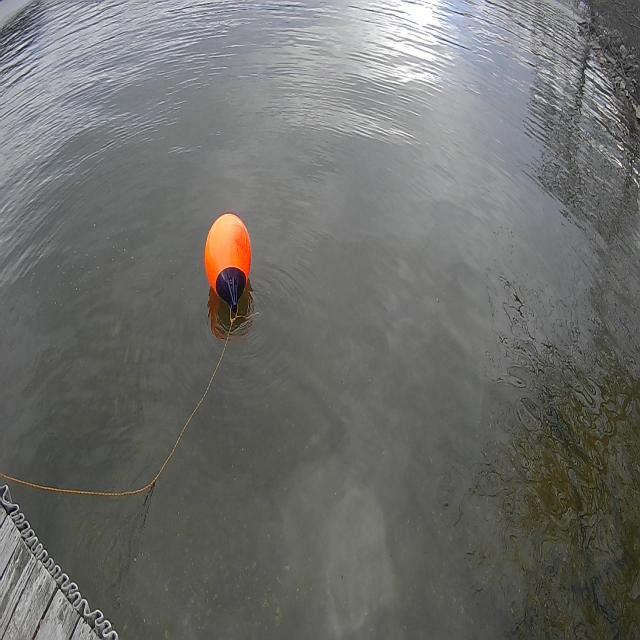Buoy: (203, 209, 254, 301)
